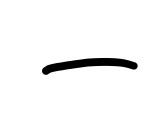minus: (43, 57, 138, 70)
